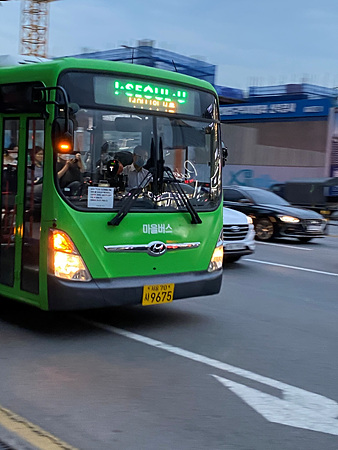entrance: (4, 107, 51, 309)
